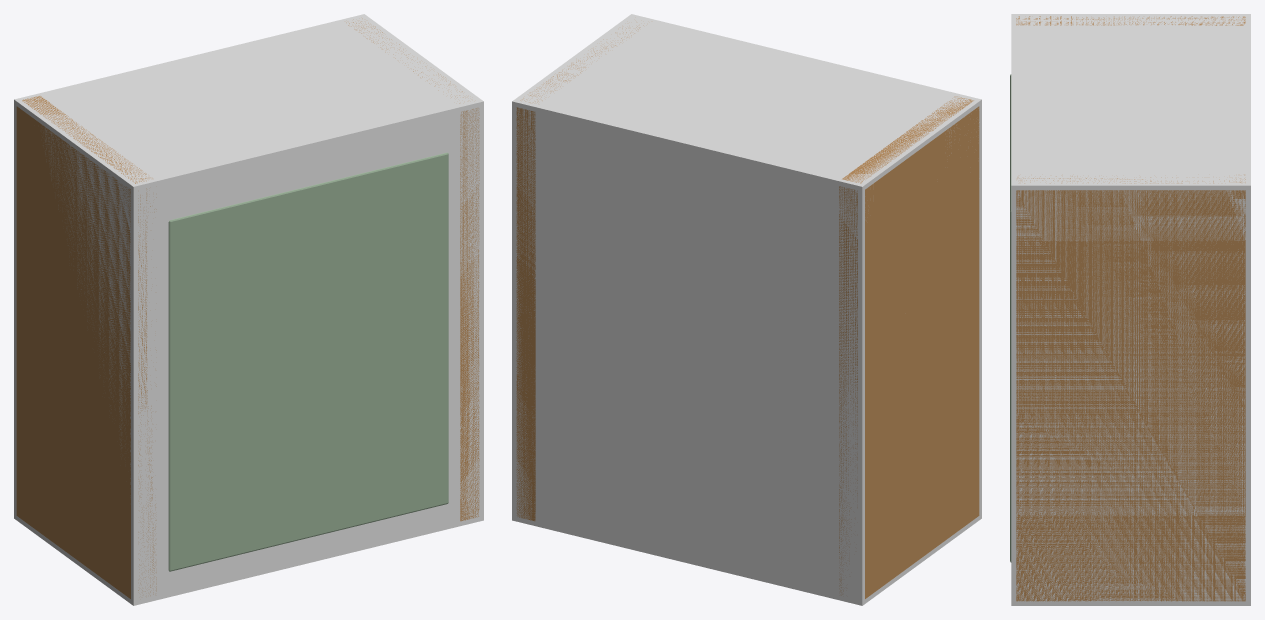
The model's file is restroom-stall_retail.glb.
3 views of the same model, side by side, from view 1: azimuth 30°, elevation 25°; view 2: azimuth 150°, elevation 25°; view 3: azimuth 270°, elevation 25° (orthographic).
Parts seen in each view (by area): view 1: COL_restroom-stall, MESH_StallDoor, MESH_Partition, MESH_Partition.001; view 2: COL_restroom-stall, MESH_Partition, MESH_Partition.001; view 3: COL_restroom-stall, MESH_Partition.001, MESH_StallDoor, MESH_Partition.
Part boxes in pixels (<box>): COL_restroom-stall: <box>14,14,483,605</box>; MESH_StallDoor: <box>168,152,448,571</box>; MESH_Partition: <box>16,96,156,598</box>; MESH_Partition.001: <box>346,18,479,521</box>; COL_restroom-stall: <box>512,14,981,605</box>; MESH_Partition: <box>839,96,979,598</box>; MESH_Partition.001: <box>516,25,643,521</box>; COL_restroom-stall: <box>1011,14,1250,605</box>; MESH_Partition.001: <box>1016,174,1245,601</box>; MESH_StallDoor: <box>1010,74,1011,562</box>; MESH_Partition: <box>1016,16,1245,25</box>.
Size of the model in its own units: 1.05 by 1.2 by 0.6231.
